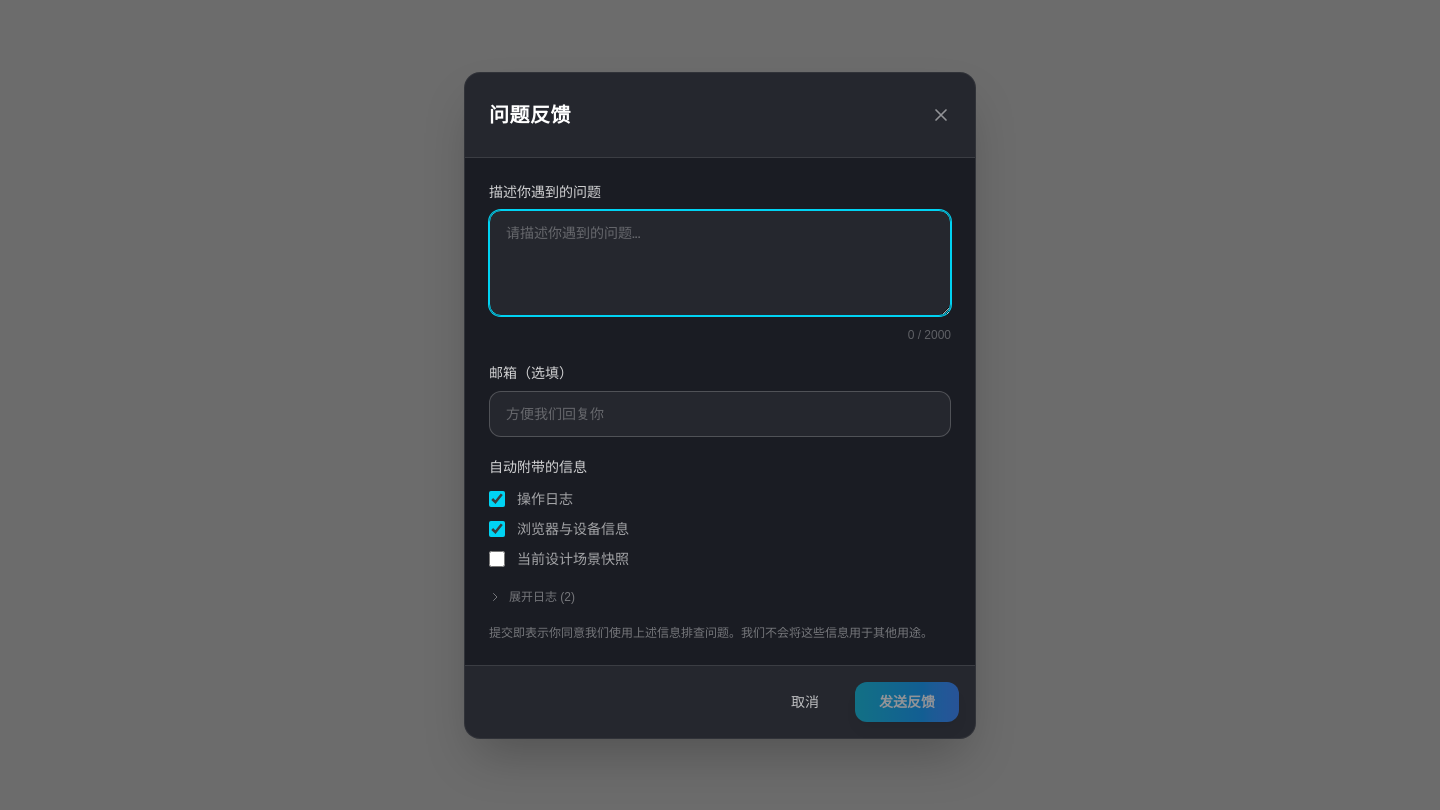
Test case: FeedbackDialog › 提交失败显示错误信息和重试按钮
The image size is (1440, 810).
Type "测试问题" into the text box with placeholder "请描述你遇到的问题...".
click(720, 262); type("测试问题")  # box [489,210,951,316]
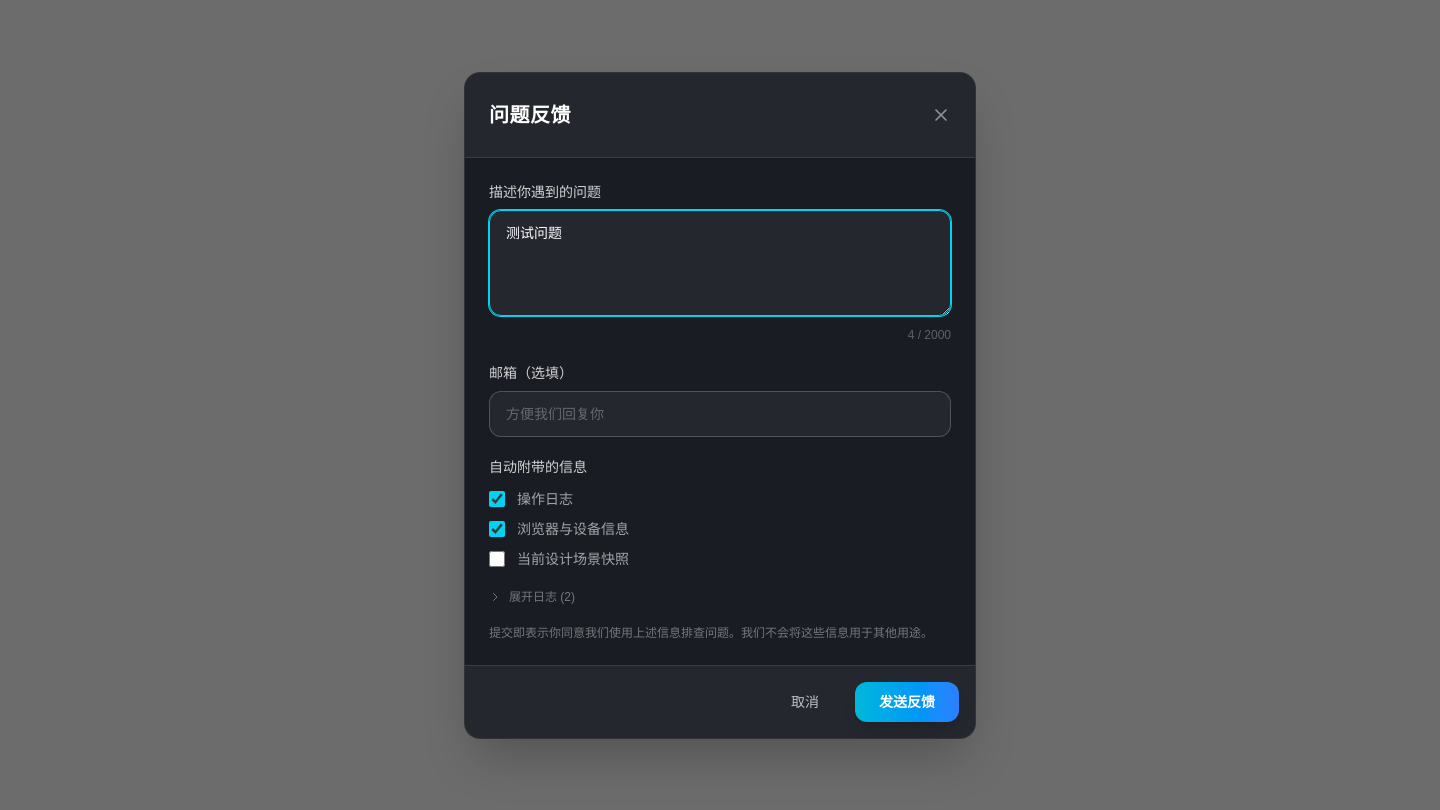
Click the button "发送反馈".
click(907, 702)  # box [855,682,959,722]
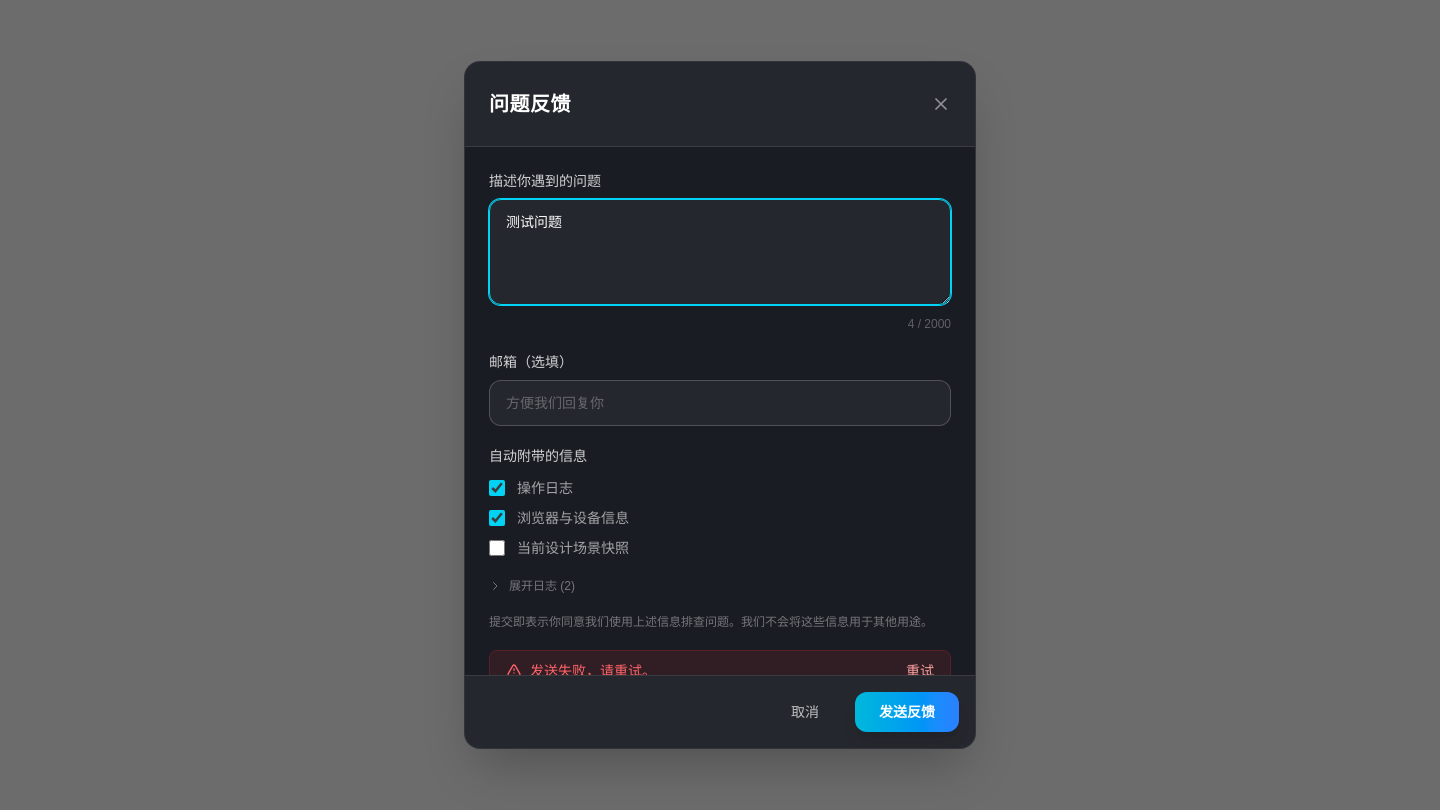
Check: the text "发送失败，请重试。" is shown, box [530,663,656,675]
Check: the button "重试" is shown, box [906,661,934,675]
